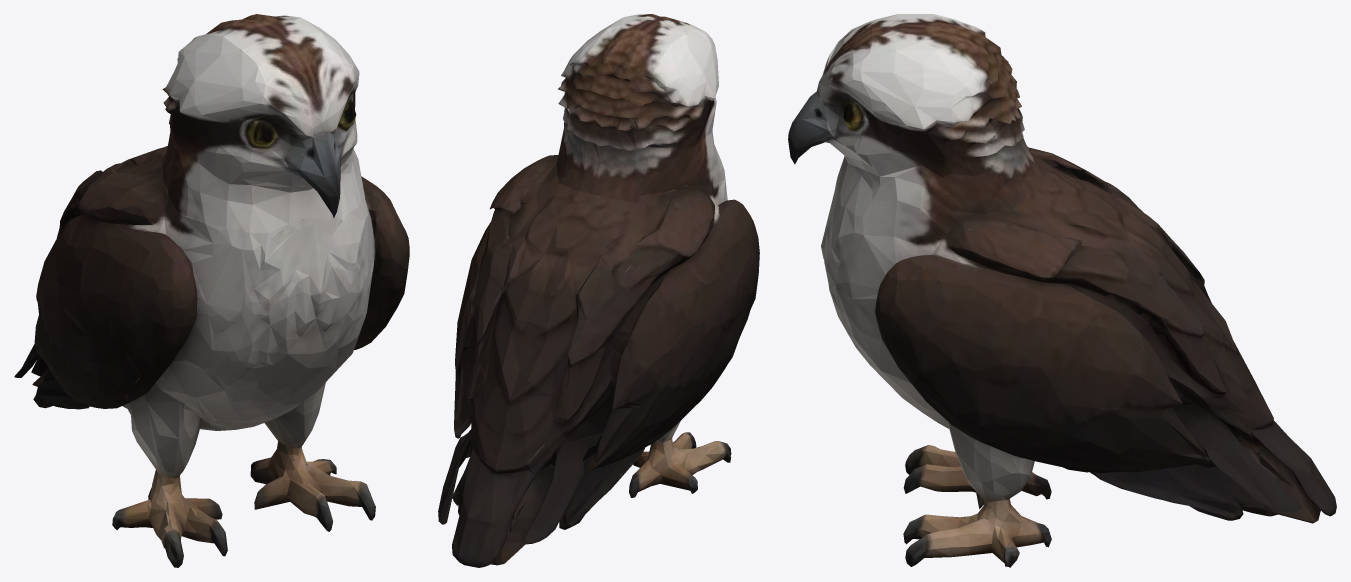
The model's file is osprey.glb.
3 views of the same model, side by side, from view 1: azimuth 30°, elevation 25°; view 2: azimuth 150°, elevation 25°; view 3: azimuth 270°, elevation 25° (orthographic). The views are drawn at different scales.
Visible parts, largest first — view 1: geometry_0; view 2: geometry_0; view 3: geometry_0.
Boxes of the visible parts, <box> form: geometry_0: <box>14,14,409,567</box>; geometry_0: <box>438,14,759,567</box>; geometry_0: <box>788,14,1336,567</box>.
Bounding box in the file's own units: 0.6006 × 0.996 × 0.9984.
1 material, 1 textured.
